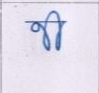i_matra: (49, 9, 66, 51)
